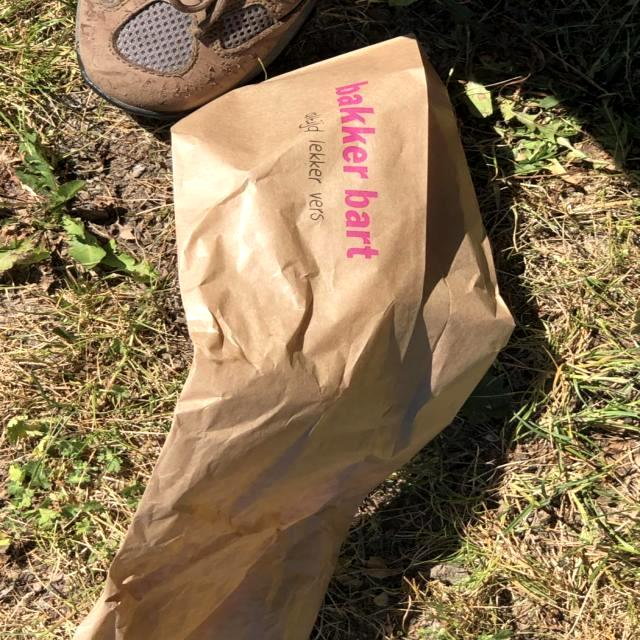Paper: (65, 26, 519, 638)
